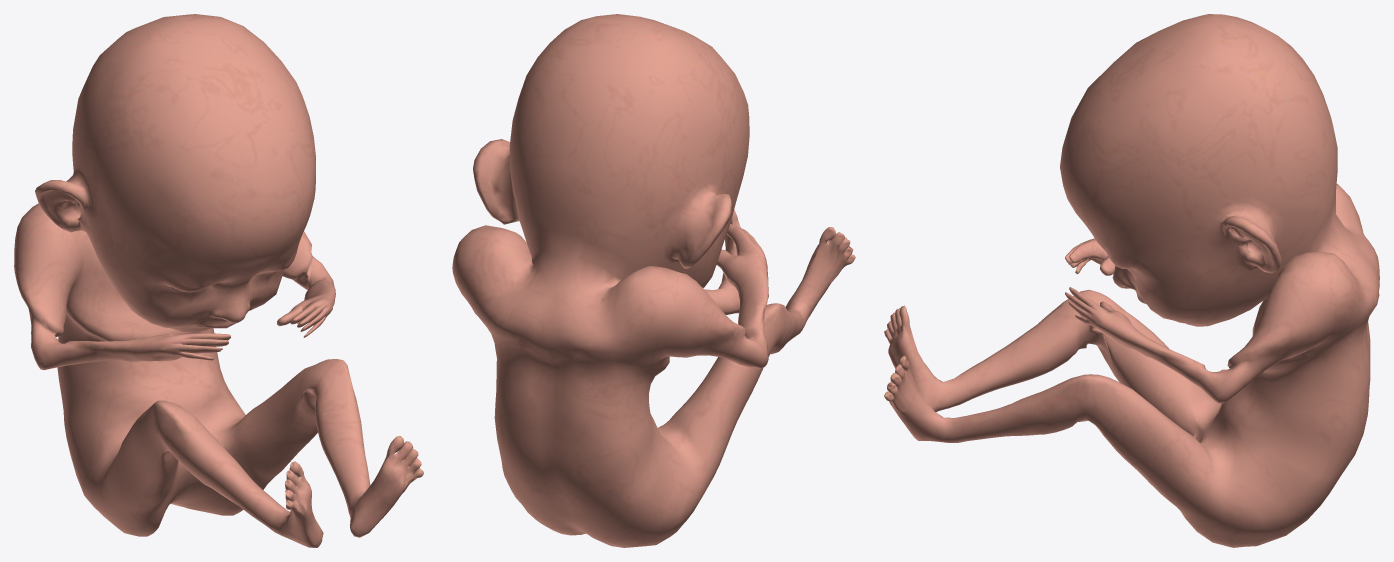
3 renders of one model, left to right at view 1: azimuth 30°, elevation 25°; view 2: azimuth 150°, elevation 25°; view 3: azimuth 270°, elevation 25°, orthographic.
Parts seen in each view (by area): view 1: Baby; view 2: Baby; view 3: Baby.
Boxes of the visible parts, x1=… form: Baby: x1=14, y1=14, x2=423, y2=547; Baby: x1=452, y1=14, x2=855, y2=547; Baby: x1=884, y1=14, x2=1379, y2=547.
Bounding box in the file's own units: 0.0949 × 0.1543 × 0.1385.
Materials: 1 (1 with a texture image).
